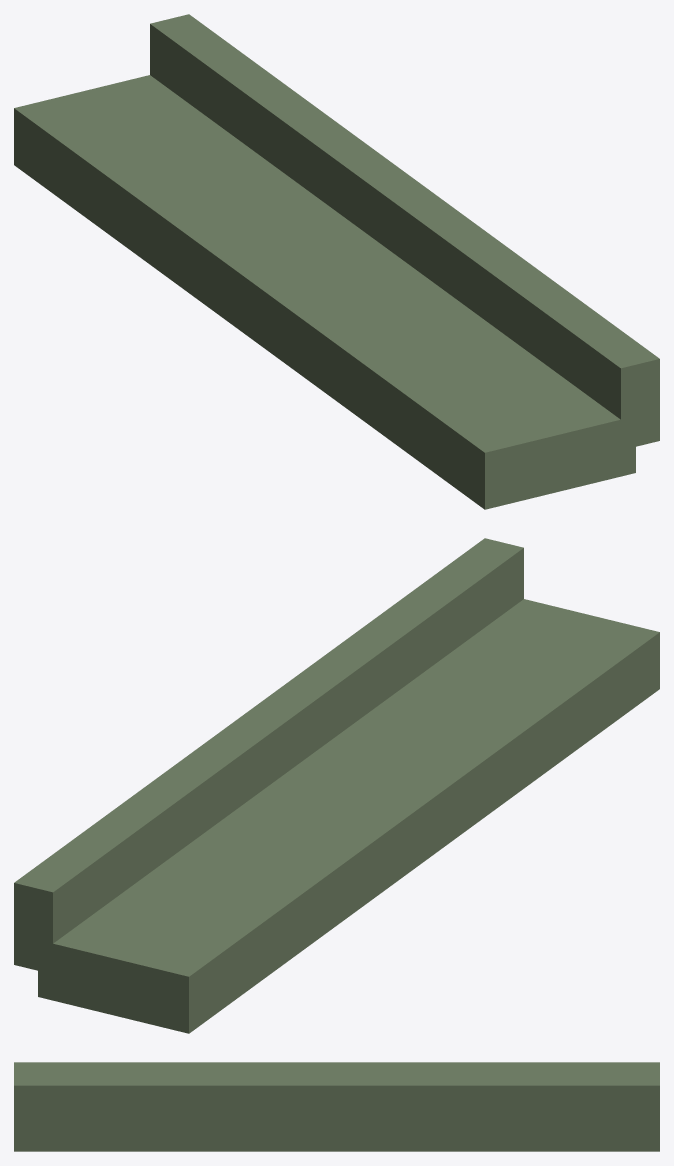
Rendered from Sm_roofTopBasePredio_02.fbx.
3 renders of one model, top to bottom at view 1: azimuth 30°, elevation 25°; view 2: azimuth 150°, elevation 25°; view 3: azimuth 270°, elevation 25°, orthographic. The views are drawn at different scales.
Parts seen in each view (by area): view 1: Sm_roofTopBasePredio_02; view 2: Sm_roofTopBasePredio_02; view 3: Sm_roofTopBasePredio_02.
Boxes of the visible parts, x1,y1,x2,y2 form: Sm_roofTopBasePredio_02: (14,14,659,509); Sm_roofTopBasePredio_02: (14,538,659,1033); Sm_roofTopBasePredio_02: (14,1062,659,1151).
Size of the model in its own units: 1.29 by 0.7609 by 6.
